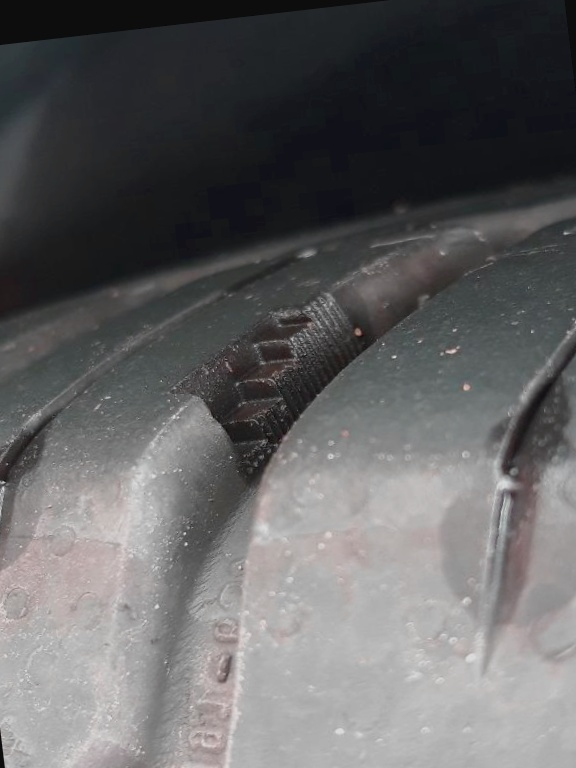temoin:90: (148, 282, 385, 492)
